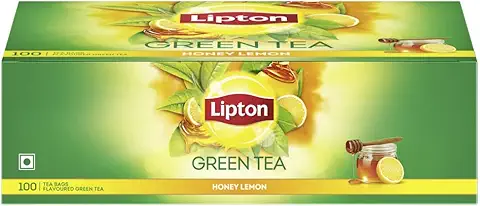Tea: (2, 2, 480, 203)
